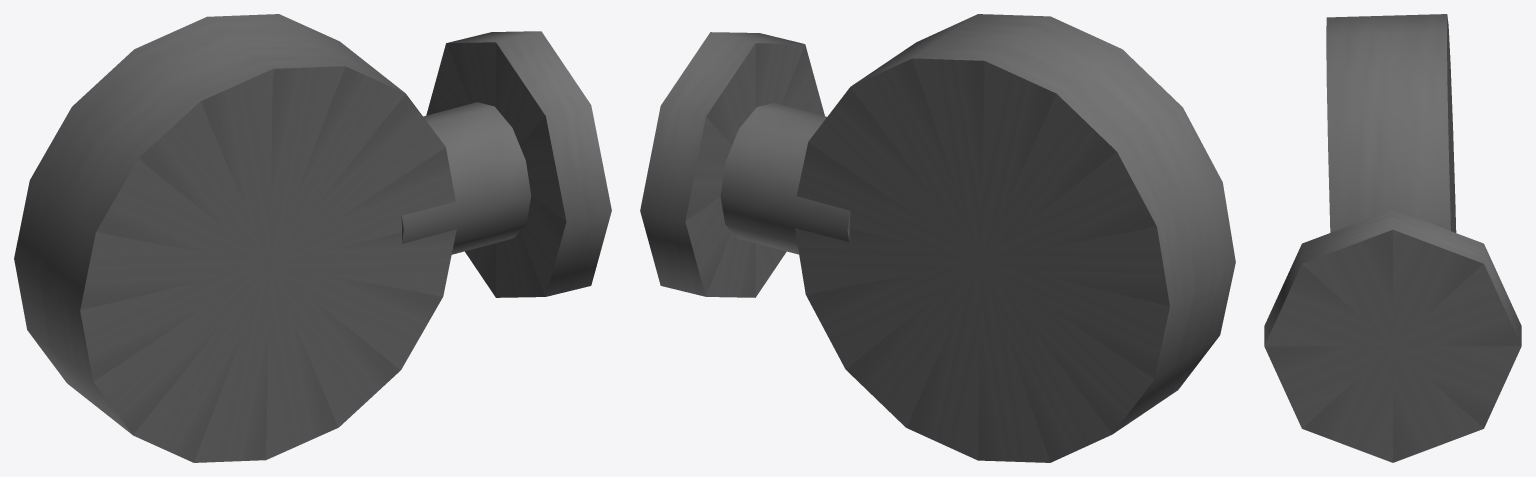
File: mastarmcurve_8x2_c9_east.obj
3 views of the same model, side by side, from view 1: azimuth 30°, elevation 25°; view 2: azimuth 150°, elevation 25°; view 3: azimuth 270°, elevation 25° (orthographic). The views are drawn at different scales.
Parts seen in each view (by area): view 1: mastarm_8x2_c9_east; view 2: mastarm_8x2_c9_east; view 3: mastarm_8x2_c9_east.
Boxes of the visible parts, x1,y1,x2,y2 form: mastarm_8x2_c9_east: (14, 14, 611, 462); mastarm_8x2_c9_east: (640, 14, 1235, 462); mastarm_8x2_c9_east: (1264, 14, 1521, 462).
Bounding box in the file's own units: 0.8095 × 0.6259 × 0.4.
